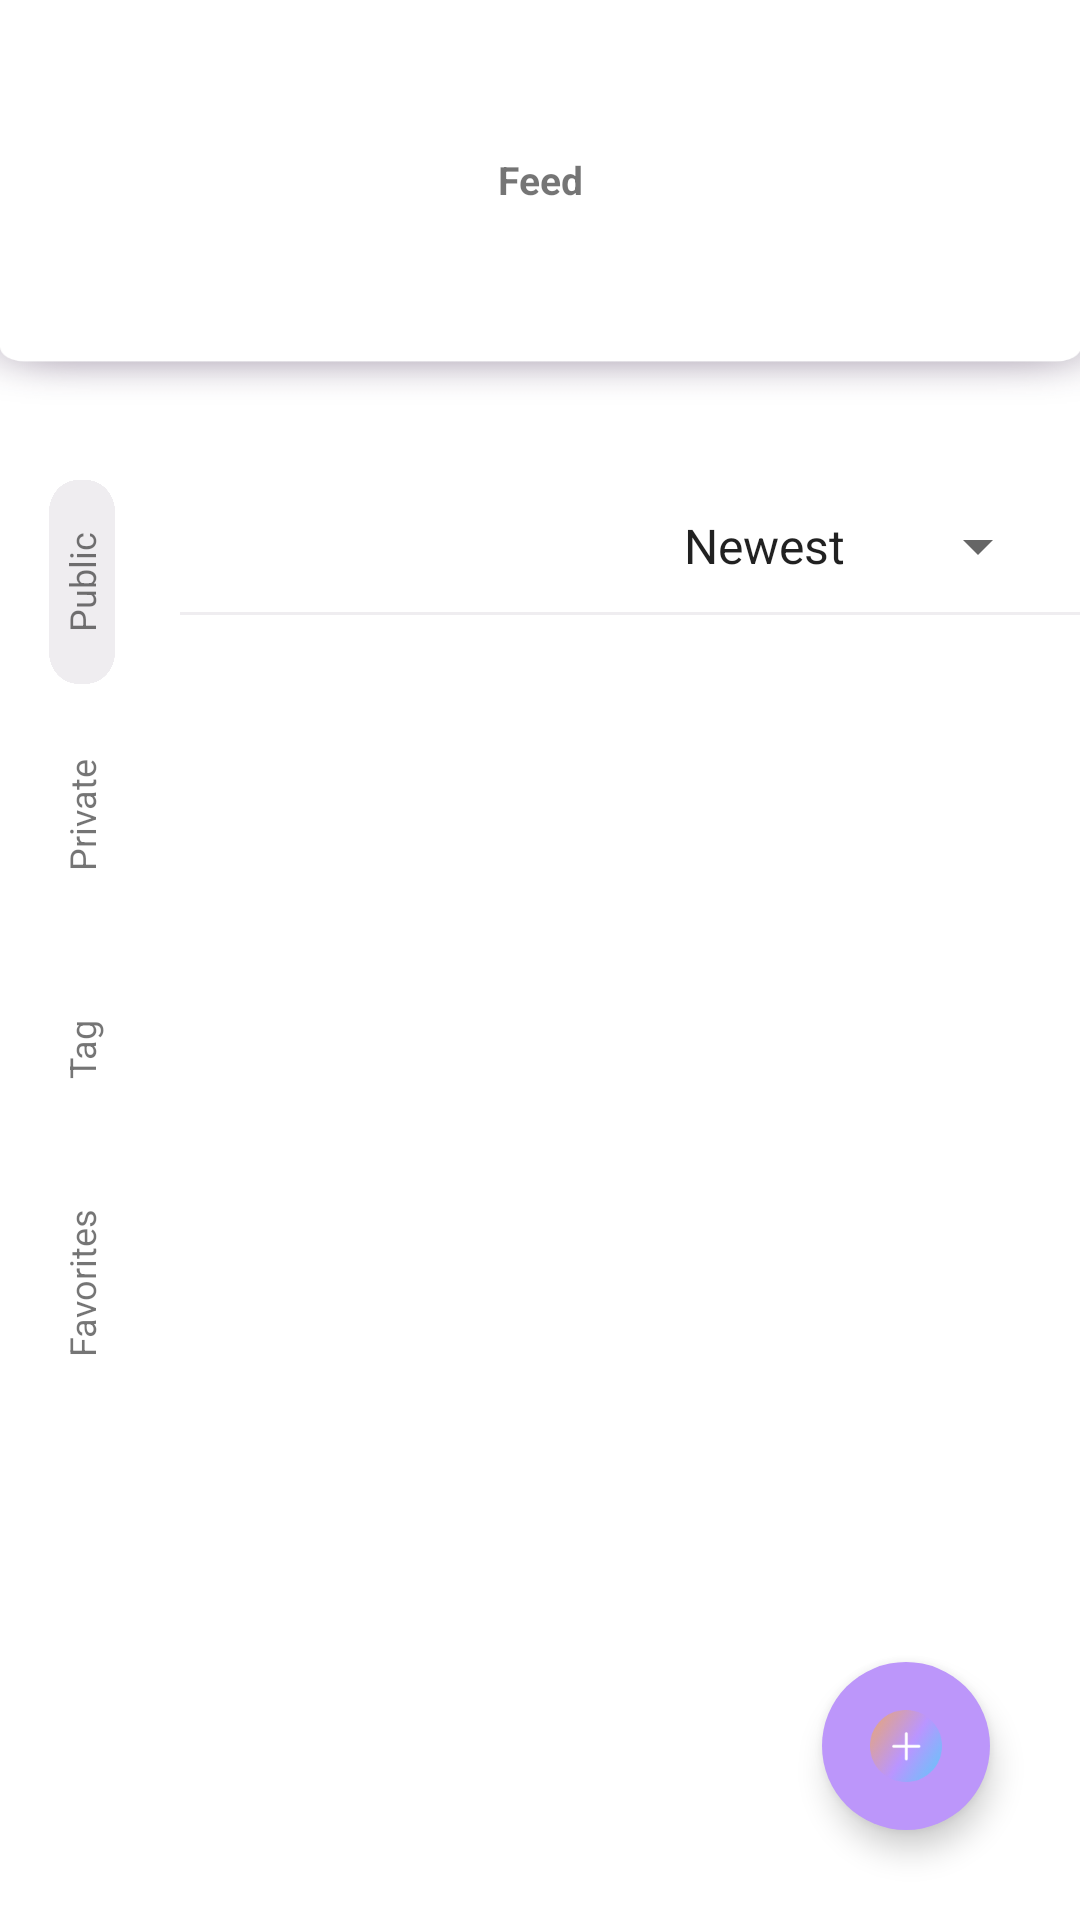

Locate icon controls on the screen. Image size 1080×1920, boxes as (x1, y1, x2, y2).
yj plus: (822, 1662, 990, 1830)
